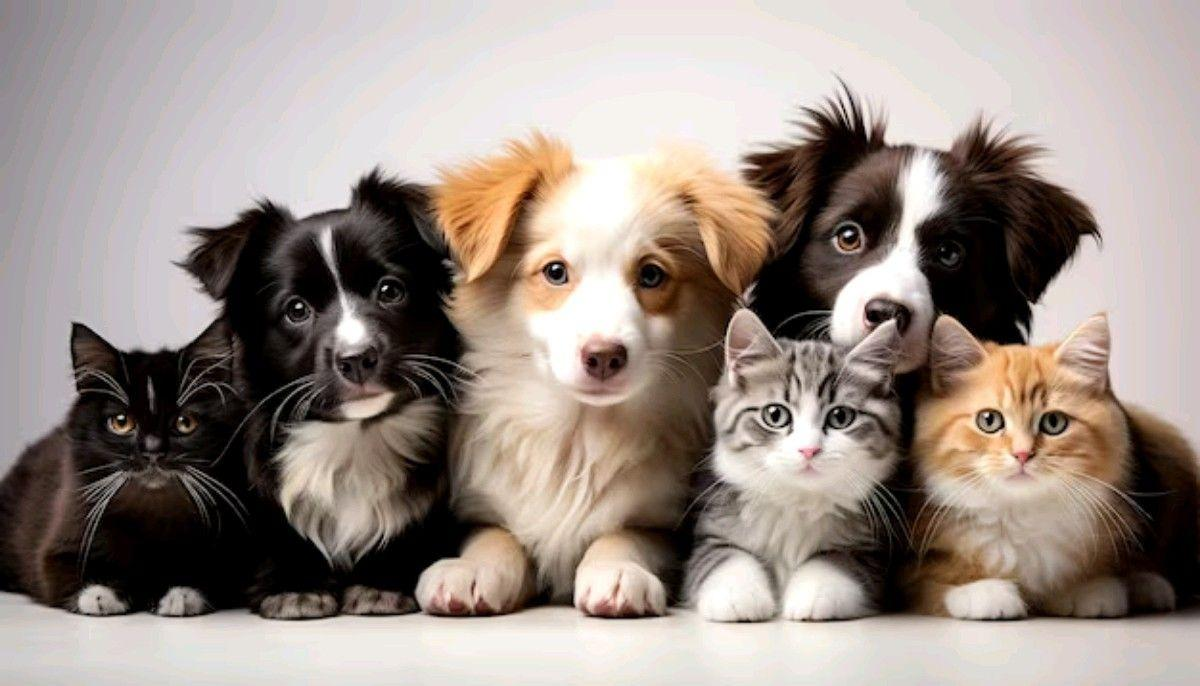non-dog: (899, 311, 1200, 621), (1, 321, 265, 619), (680, 307, 908, 624)
puppy-dog: (412, 132, 780, 619), (731, 78, 1107, 448), (175, 170, 466, 620)
